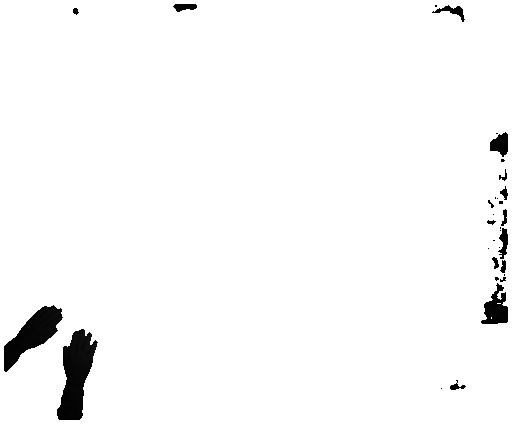hand: (62, 330, 103, 382), (18, 306, 64, 352)
